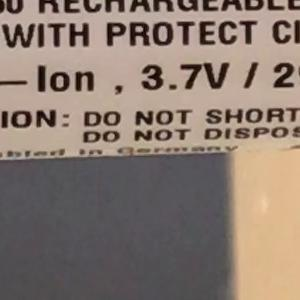3.7V: (131, 52, 239, 100)
